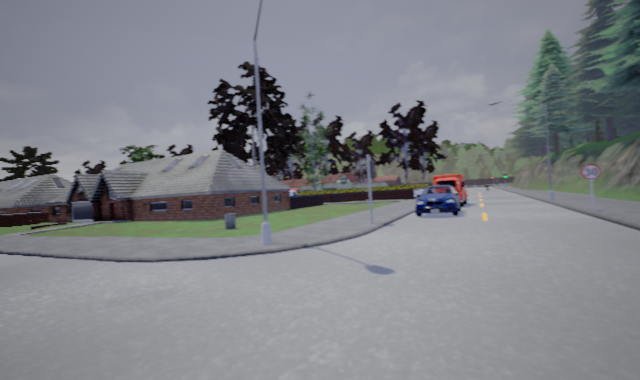vehicle: (413, 183, 462, 217), (425, 172, 468, 209)
